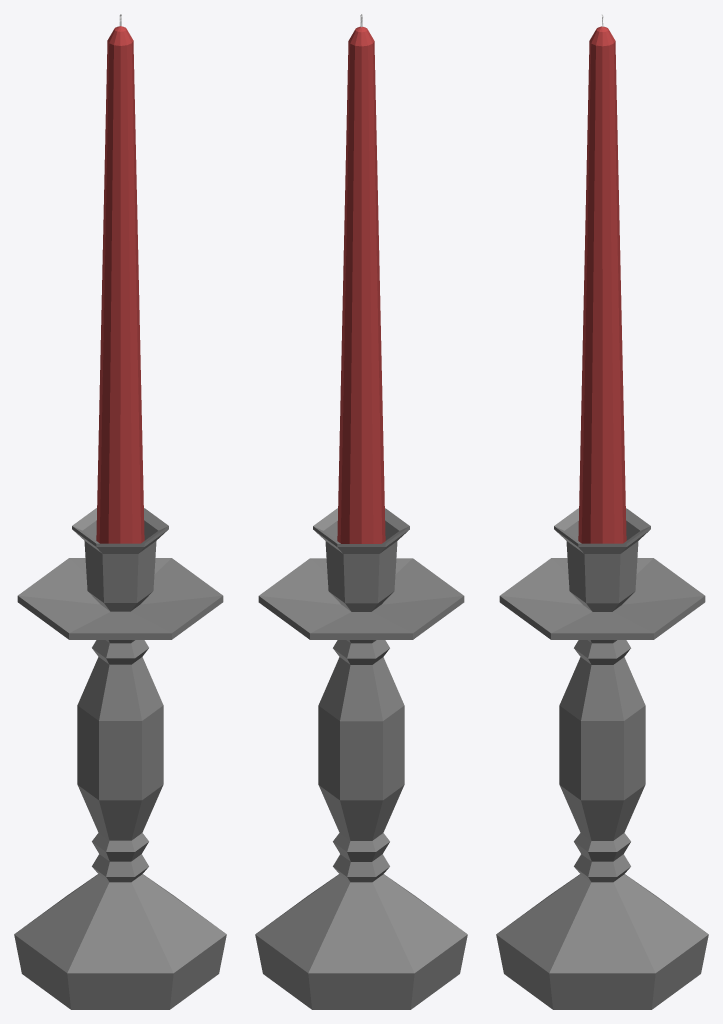
The model's file is Candlestick.fbx.
The picture shows the model from 3 angles, left to right: view 1: azimuth 30°, elevation 25°; view 2: azimuth 150°, elevation 25°; view 3: azimuth 270°, elevation 25°; orthographic projection.
Parts seen in each view (by area): view 1: Candlestick; view 2: Candlestick; view 3: Candlestick.
Boxes of the visible parts, x1,y1,x2,y2 form: Candlestick: (14,14,226,1009); Candlestick: (255,14,467,1009); Candlestick: (496,14,708,1009).
Bounding box in the file's own units: 0.0477 × 0.2743 × 0.0551.
1 material, 1 textured.
